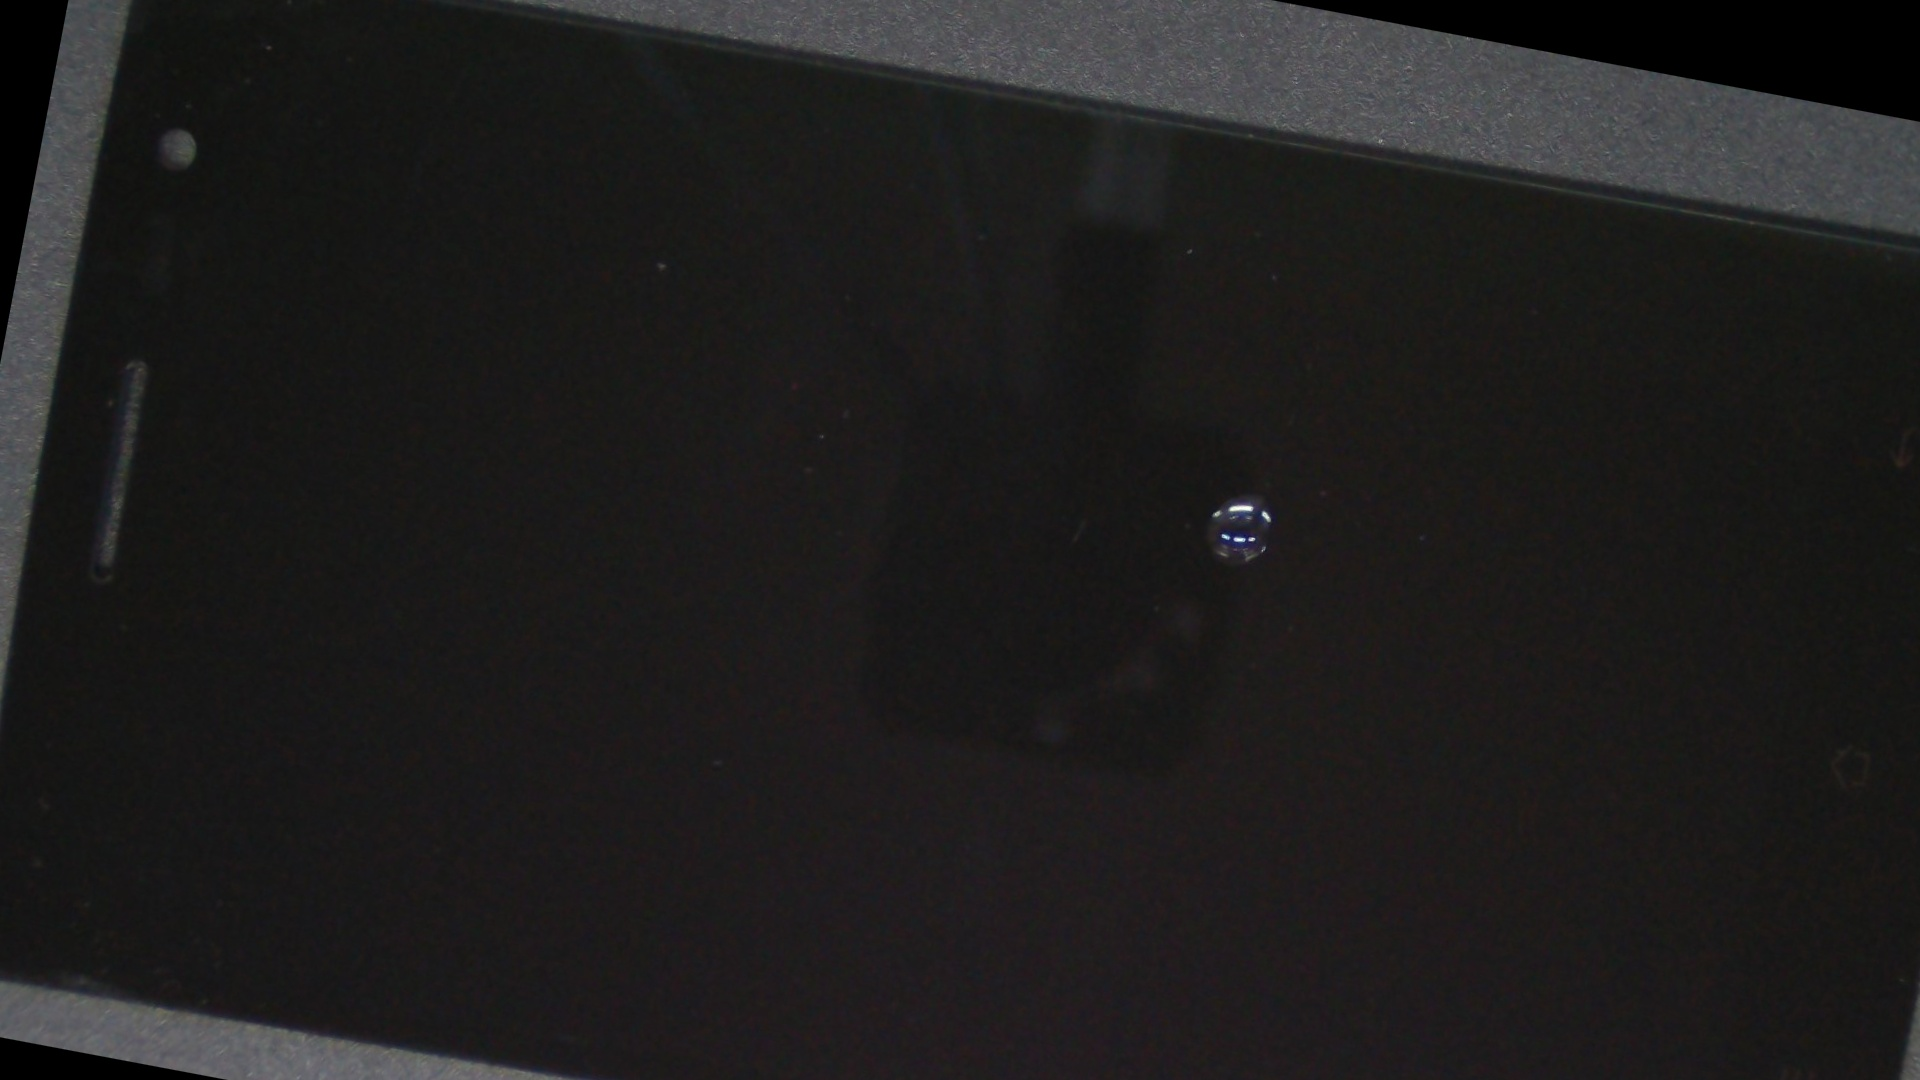oil: (593, 138, 1920, 852)
